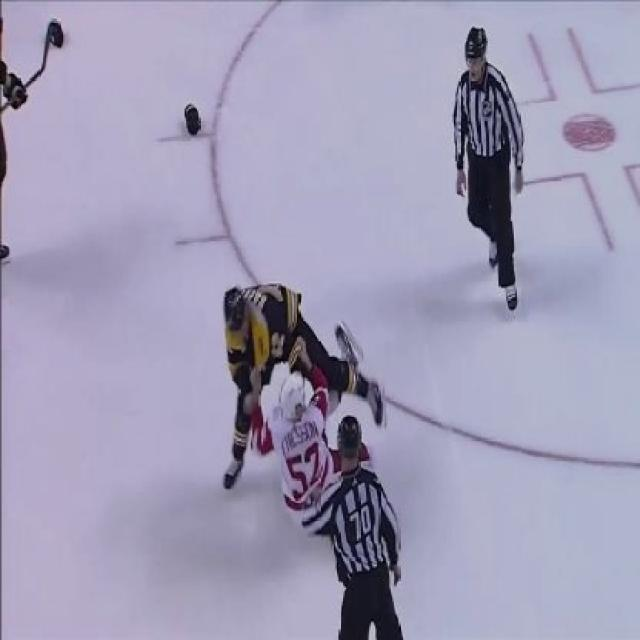fight: (211, 277, 395, 535)
non-fight: (443, 17, 539, 318), (308, 397, 420, 638), (0, 0, 32, 278)
